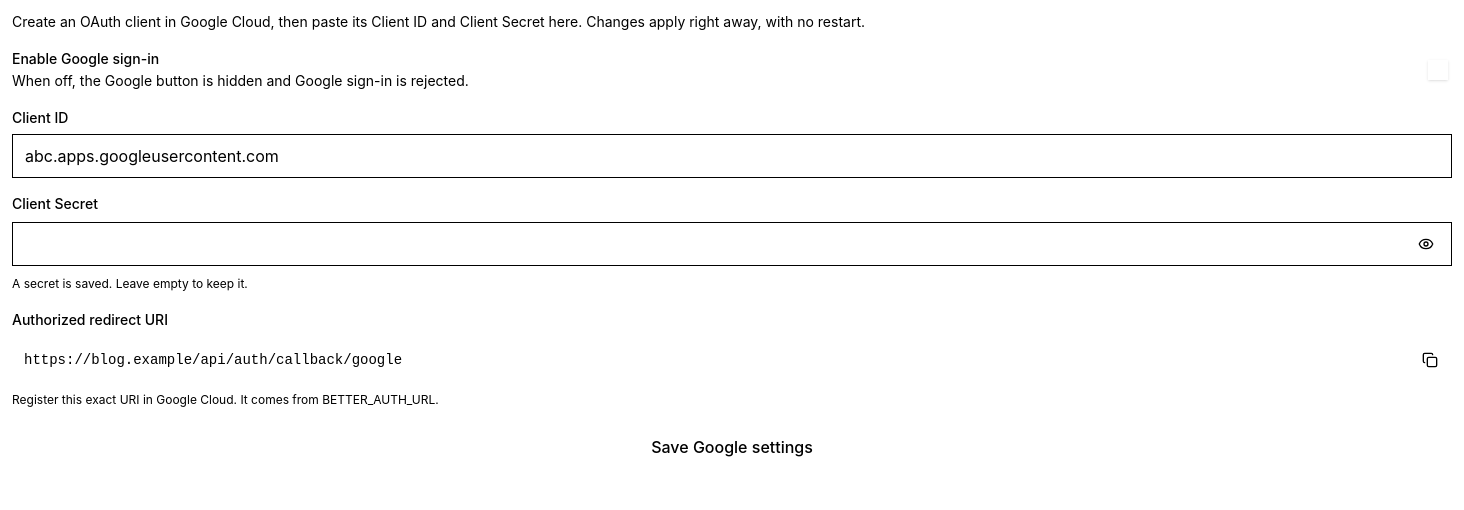
Test case: GoogleSignInSettingsForm › Given a 500 answer, should show the generic alert
The width and height of the screenshot is (1464, 510).
Click the button "Save Google settings" at x=732, y=447, box [12,425,1452,469]
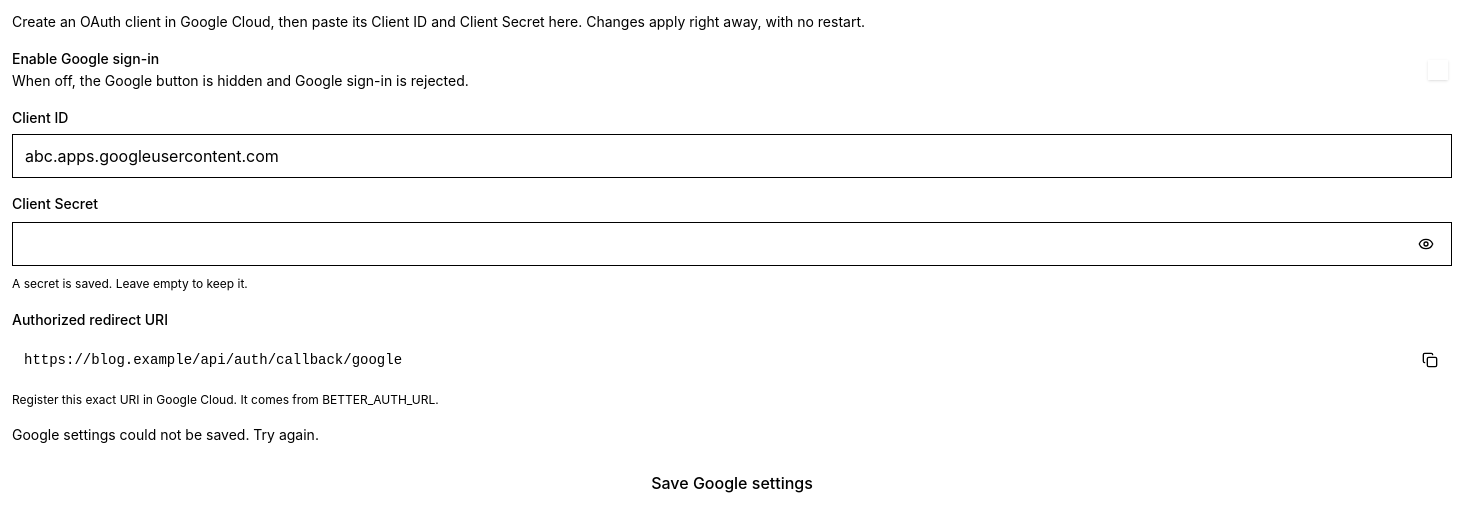
expect the message shows "could not be saved": met, box [12,426,319,443]
